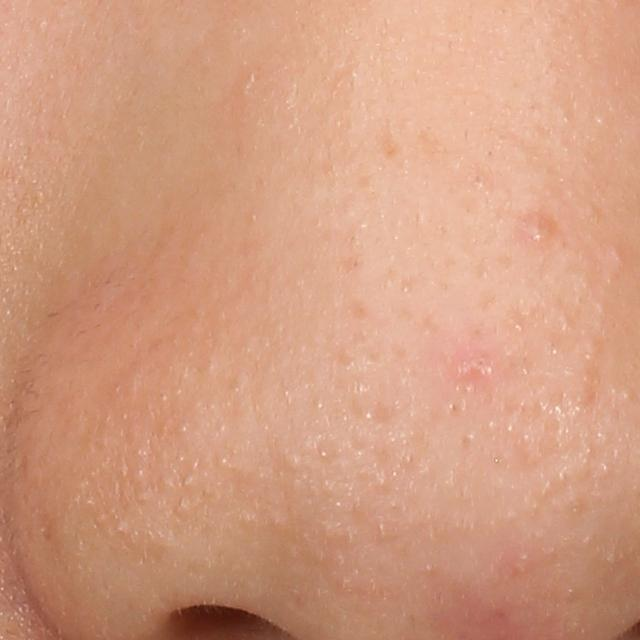comedo: (275, 447, 304, 475), (152, 467, 178, 497), (319, 470, 339, 503), (560, 492, 586, 517), (591, 454, 615, 481), (173, 495, 193, 524), (374, 467, 392, 498), (458, 429, 483, 450), (241, 509, 261, 534), (374, 513, 391, 542), (129, 487, 151, 506), (214, 449, 230, 474), (309, 393, 329, 413), (416, 461, 436, 481), (592, 431, 613, 449), (556, 464, 571, 485), (174, 419, 192, 436)
papule: (519, 206, 559, 253)
